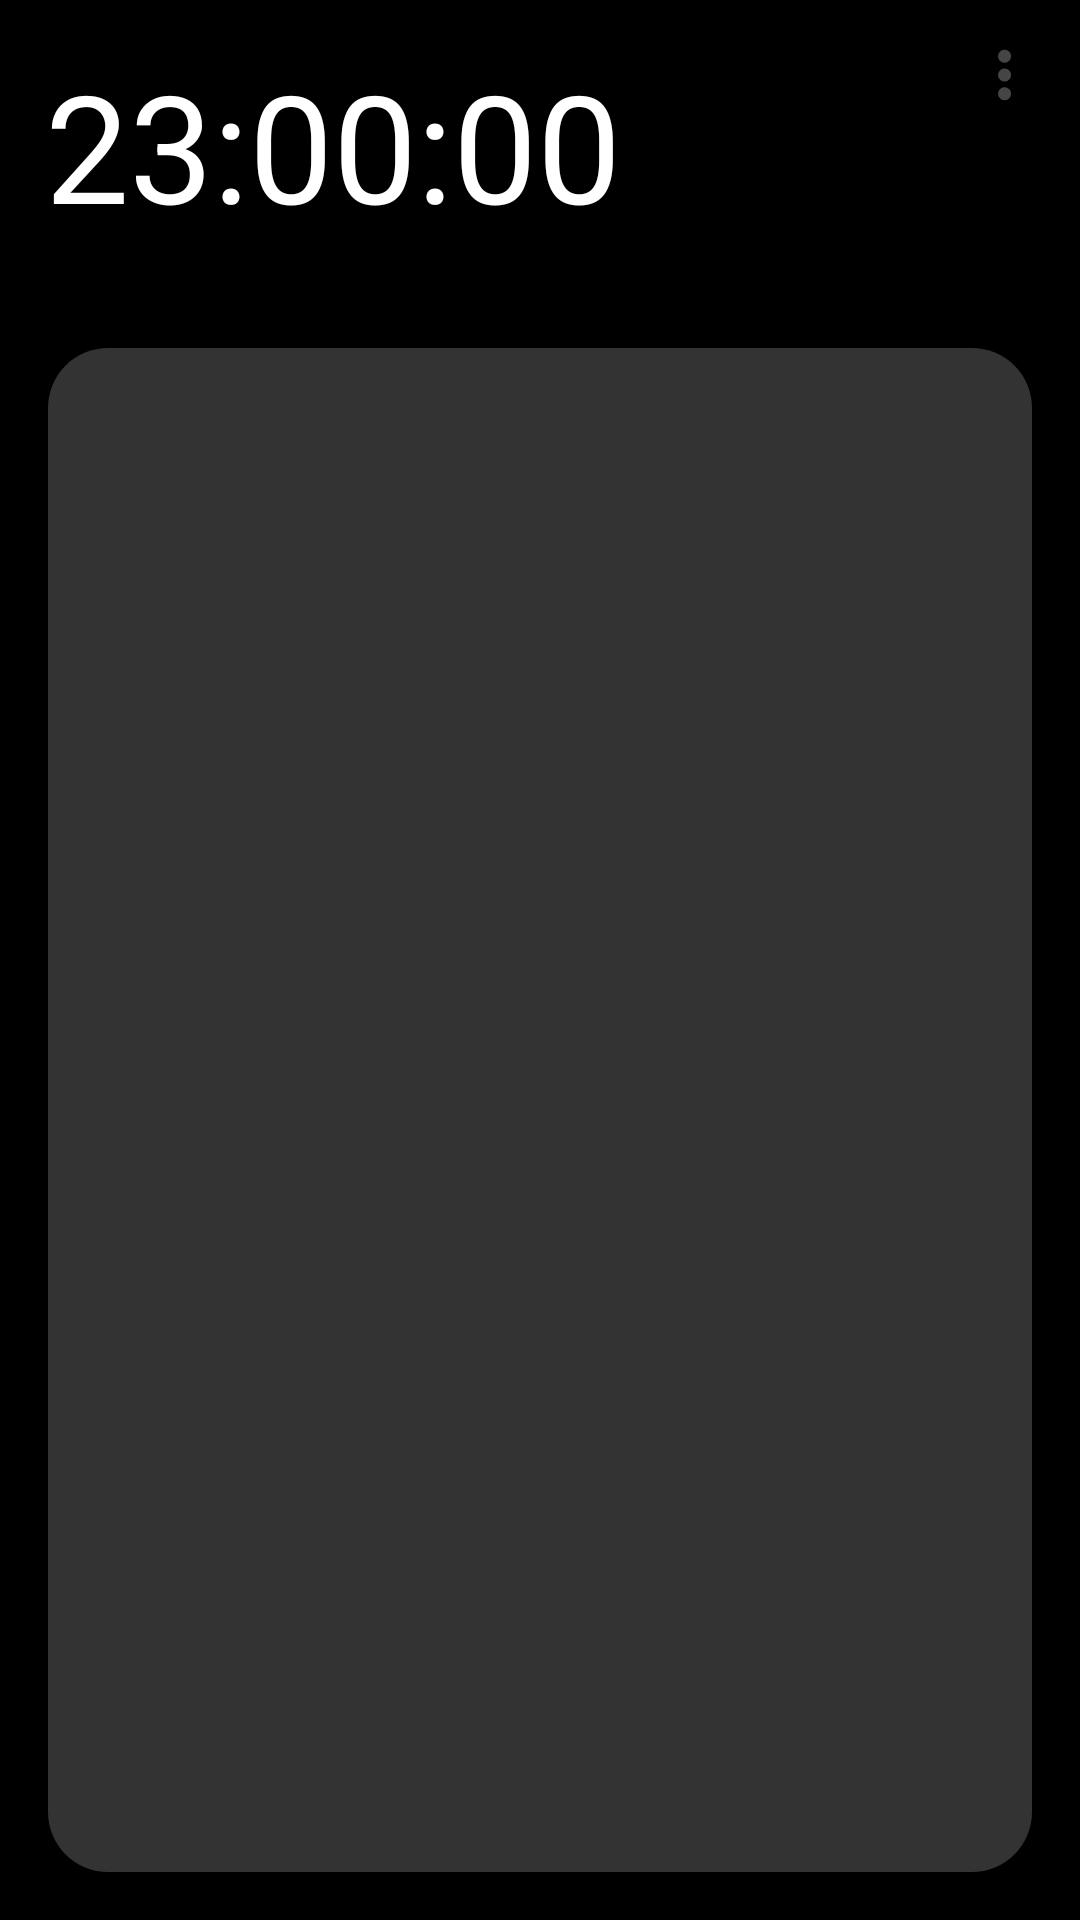

Screen size 1080×1920. Icon name, then its box in pixels as [x1, y1, x2, y2]:
ellipsis vertical: [998, 50, 1011, 100]
